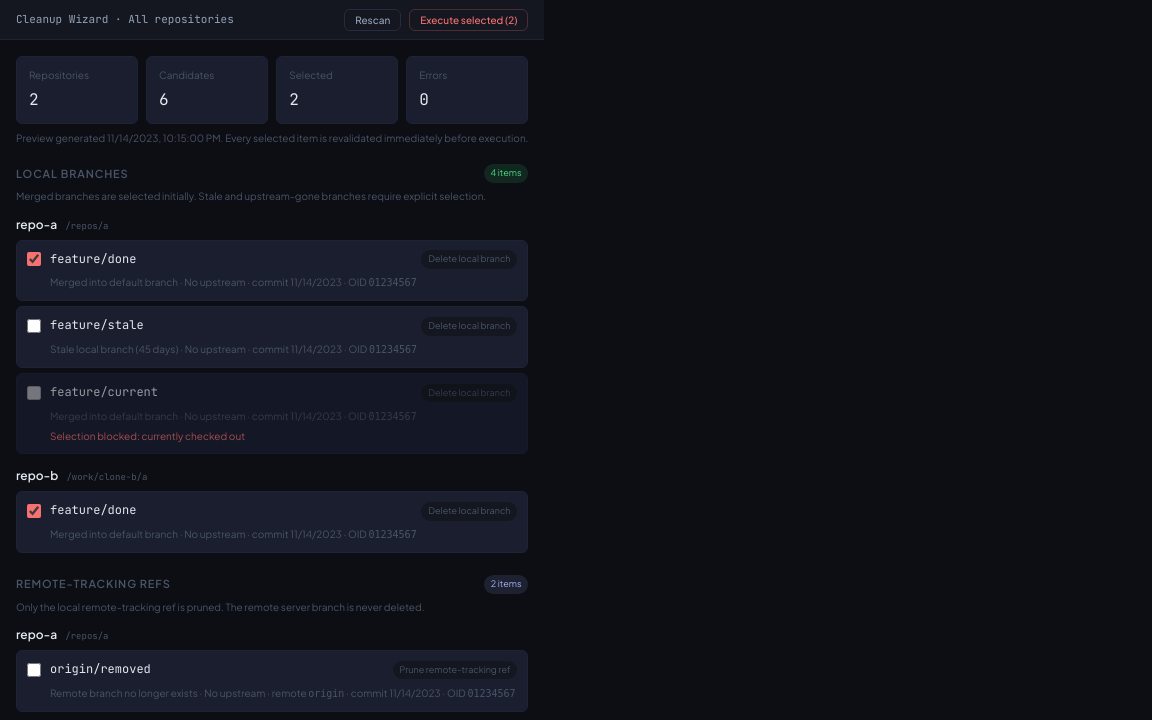
Test: Cleanup — 確認と実行結果 › 確認画面を repo 単位でグループ化し、repo / remote / ref / operation を表示する
Click the checkbox named "Select repo-a /repos/a origin/removed": (34, 670) [27,663,41,677]
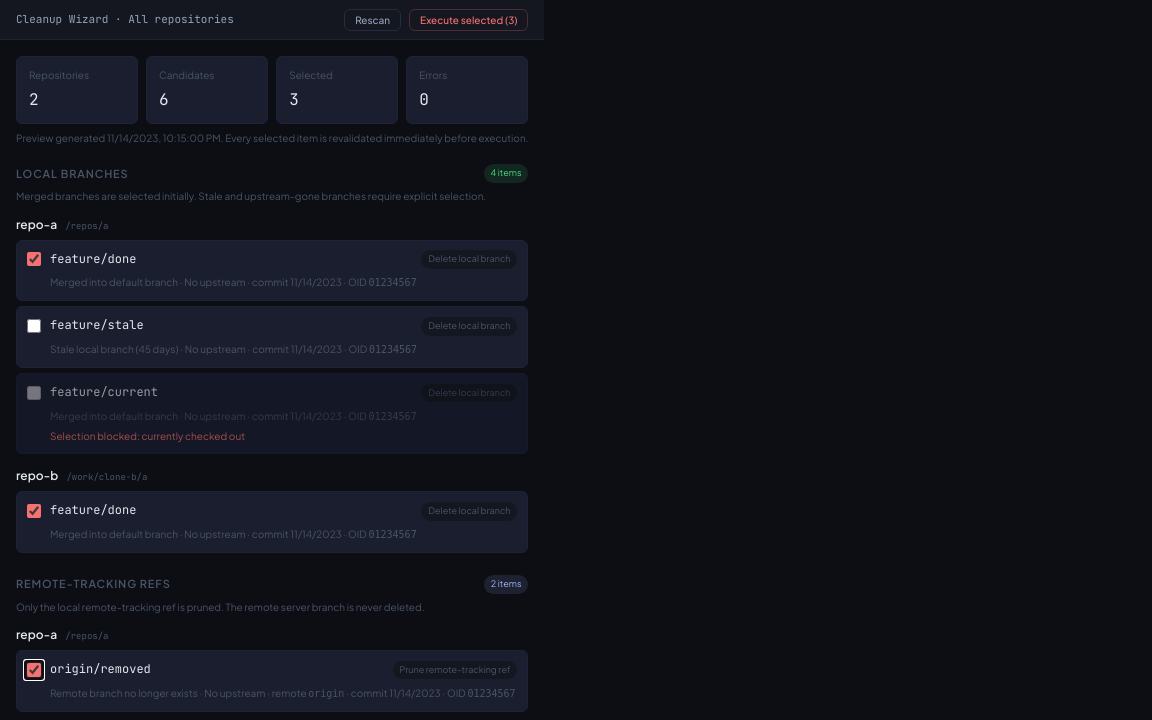
Click the button "Execute selected (3)": (469, 20) [409,8,528,30]
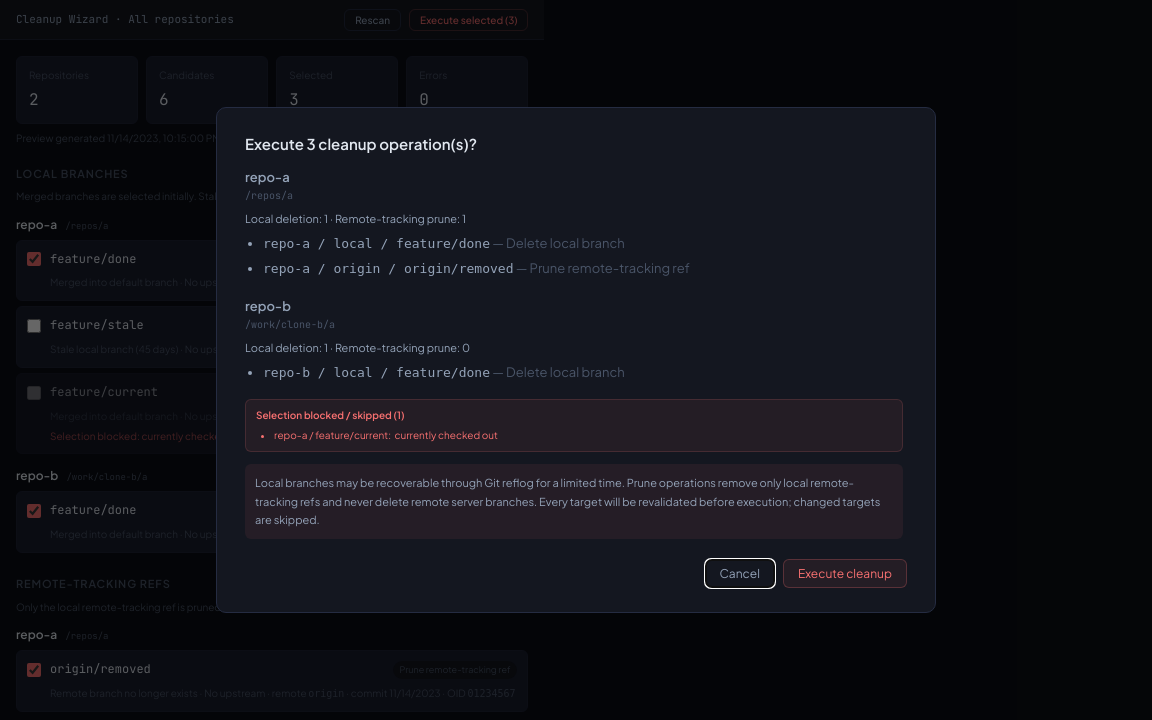
Check: the text "repo-a" is shown, box [245,169,290,185]
Check: the text "repo-b" is shown, box [245,298,291,314]
Check: the text "Local deletion: 1 · Remote-tracking prune: 1" is shown, box [245,212,466,225]
